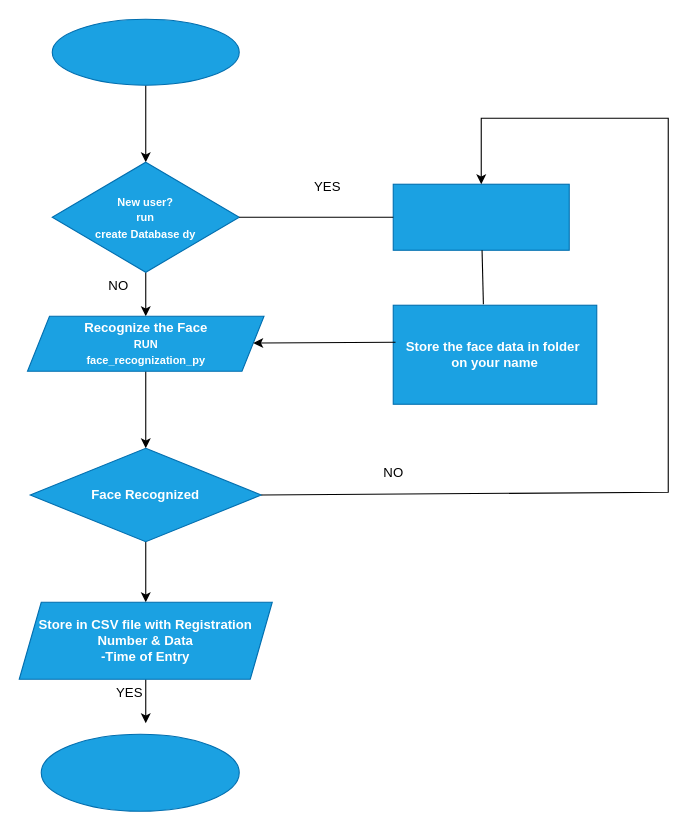
Some shapes in this 696 by 831 pixel diagram are drawn without their labels. The shapes that lost their labels are listed below. From the top down, each one's box as (x1, y1, x2, y2) in pixels, then its label:
(51, 18, 239, 85): Start
(392, 183, 569, 250): Give your Photograph
(40, 733, 239, 811): End
